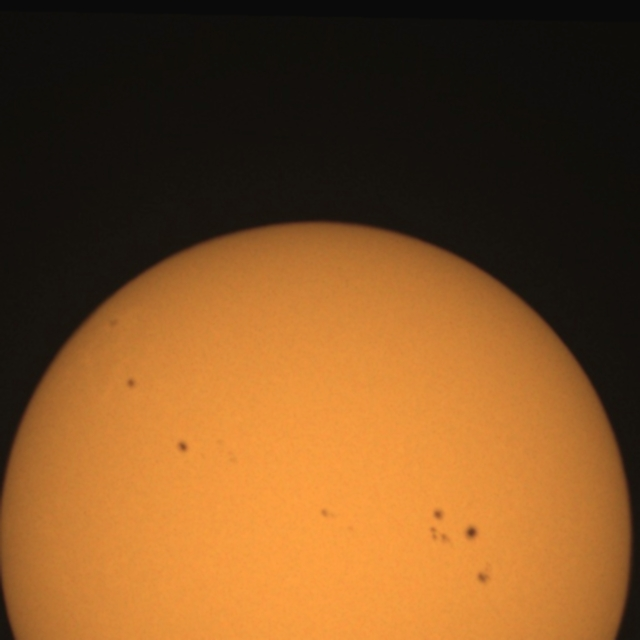sunspot: (426, 518, 481, 547), (427, 508, 456, 548), (476, 563, 493, 586), (463, 523, 479, 543), (430, 507, 446, 525), (319, 507, 335, 522), (175, 439, 190, 455), (108, 316, 120, 330), (125, 376, 137, 390)
